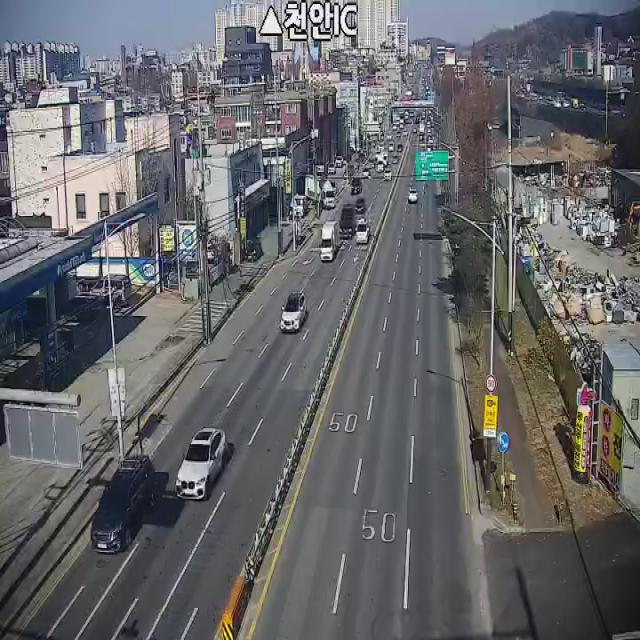Car: (90, 455, 156, 555), (175, 427, 228, 502), (96, 271, 133, 306), (281, 291, 306, 333), (340, 204, 355, 239), (245, 236, 263, 260), (351, 177, 362, 195), (355, 198, 366, 215), (408, 189, 418, 204)
Truck: (304, 174, 335, 211), (320, 220, 340, 261), (356, 218, 371, 245)
